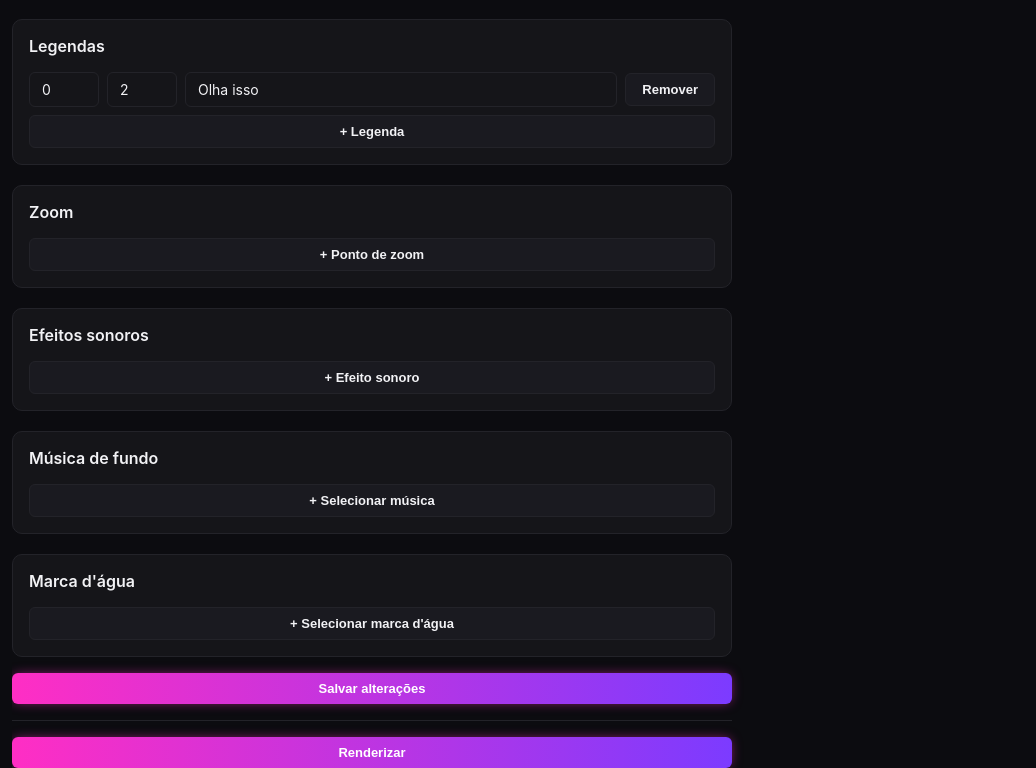
Test: EditorPage › shows an error message when saving fails
(page scrolled)
Click the button "Salvar alterações": (372,688) [12,673,732,704]
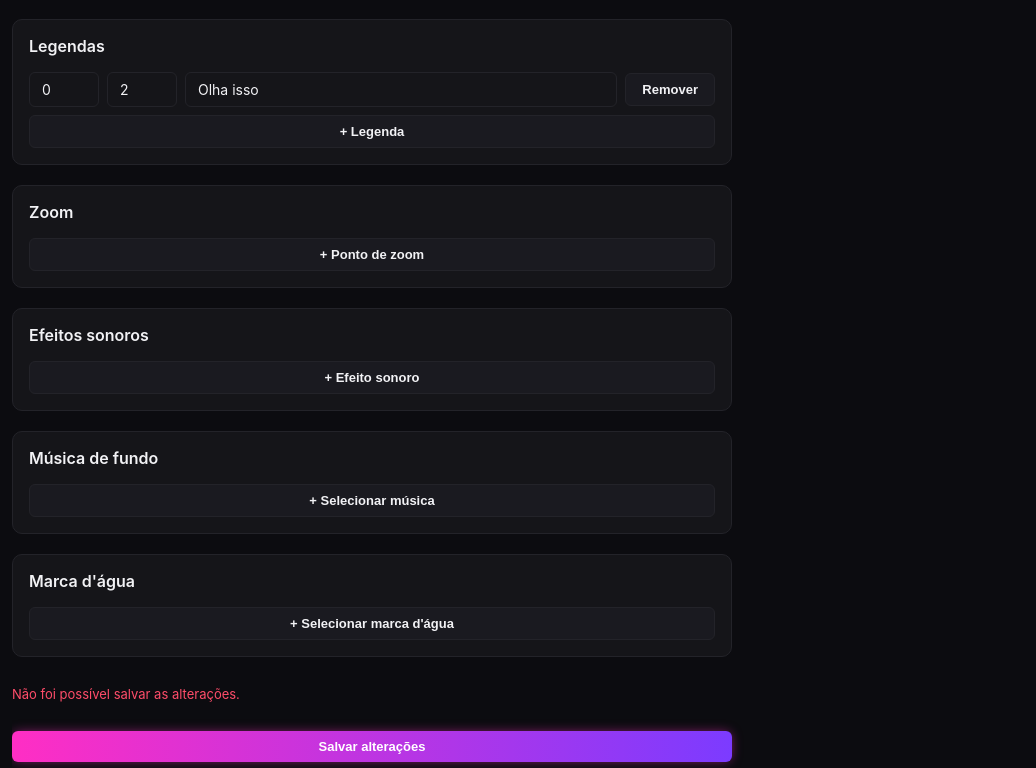
Check: the text "Não foi possível salvar as alterações." is shown, box [12,686,240,702]
